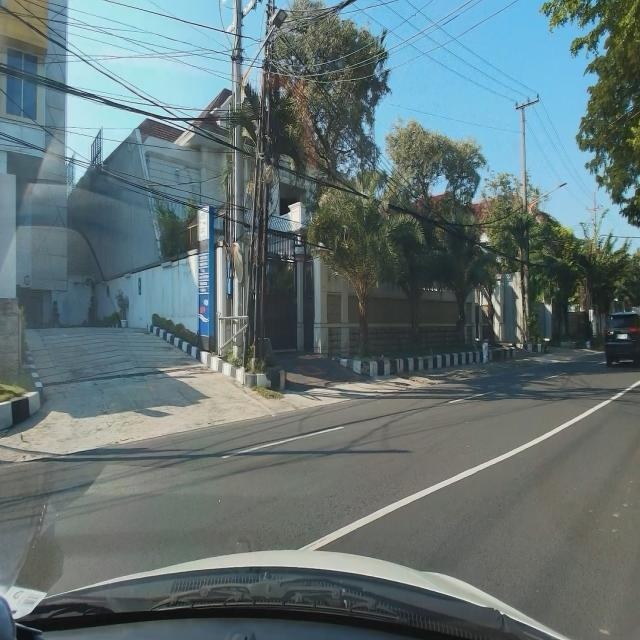car: (601, 307, 640, 370)
license-plate: (617, 334, 628, 339)
